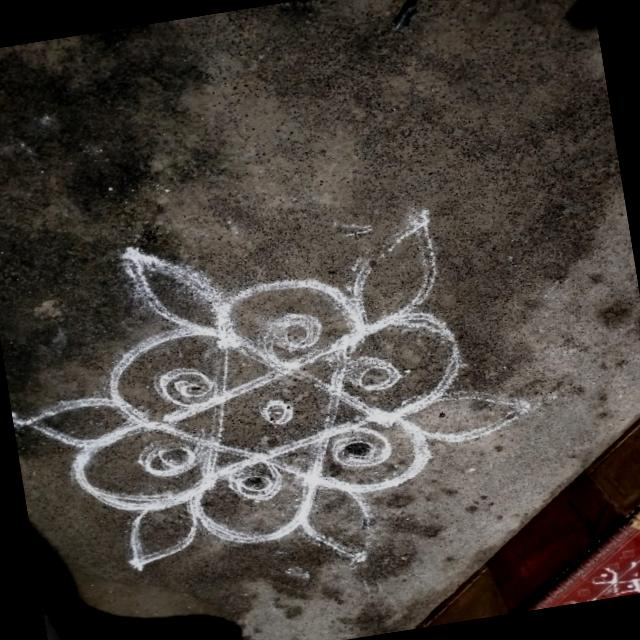rangoli: (0, 189, 551, 612)
